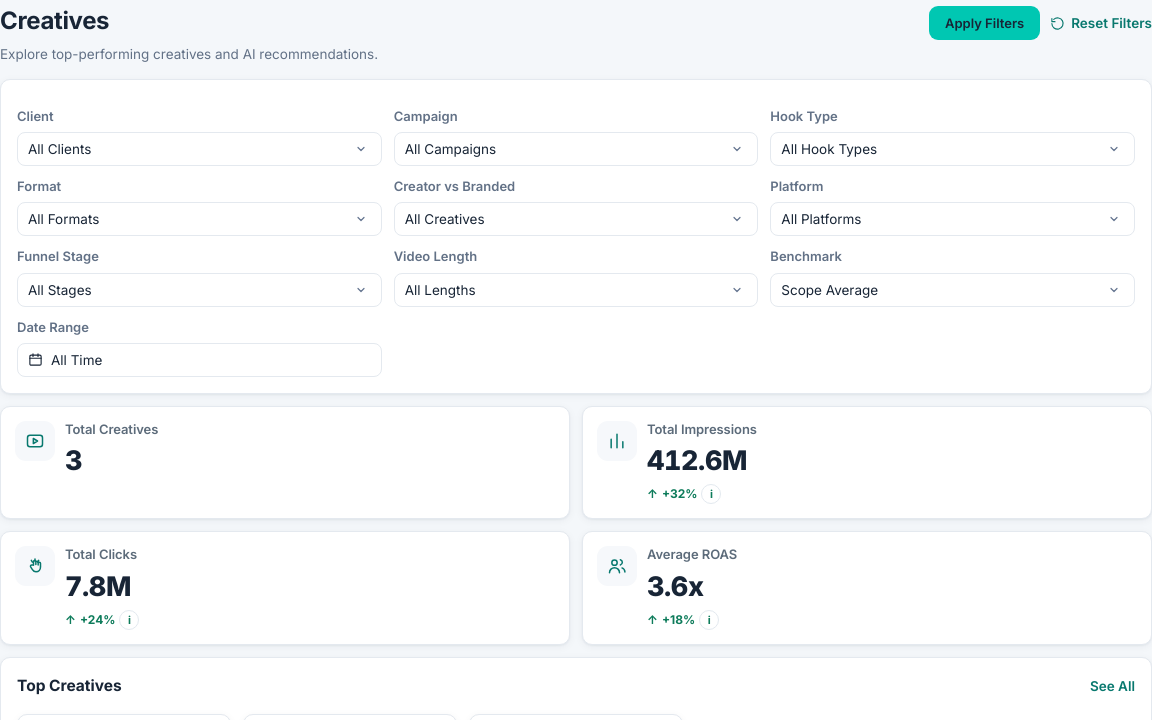
Test case: CreativesPage › crowns the real leader and scopes every section to the length filter
expect the heading "Top Creatives" is shown: met, box [17,676,122,695]
Narrow to long videos: only Gamma survives anywhere.
Select "Over 30s" in the dropdown labelled "Video Length". click: coordinates (576, 290)
box: [394,272,758,306]
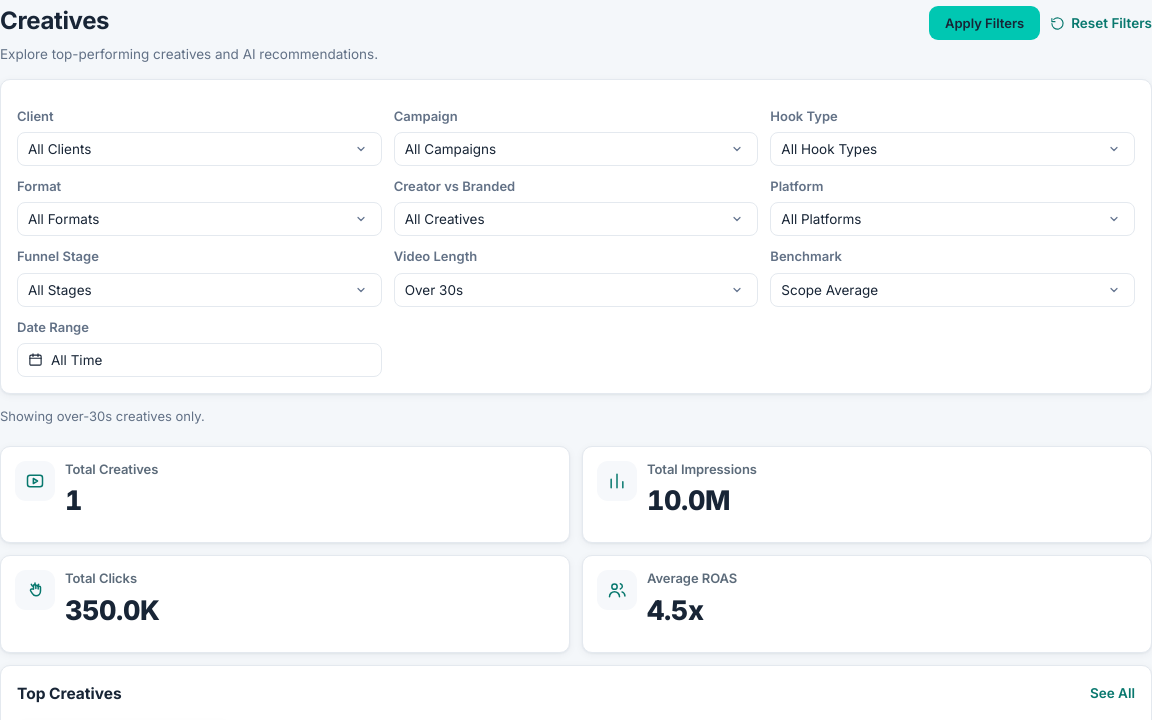
expect the text "Showing over-30s creatives only." is shown: met, box [0,408,205,424]
